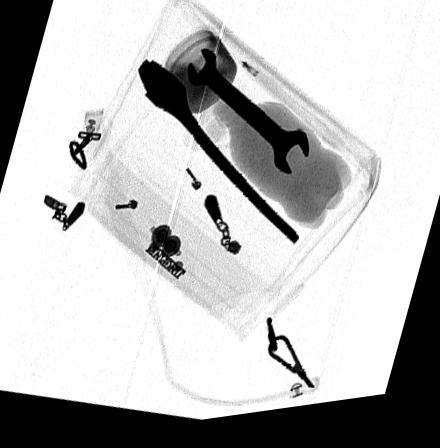Wrench: (137, 60, 299, 251), (187, 51, 308, 181)
